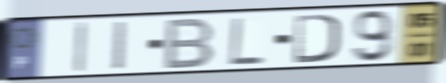9: (351, 9, 395, 64)
B: (161, 15, 217, 71)
D: (292, 12, 342, 65)
I: (72, 20, 89, 75), (112, 19, 129, 72)
L: (227, 16, 266, 66)
